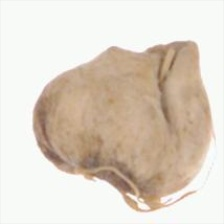L3: (111, 36, 198, 69)
L4: (32, 40, 212, 210)
